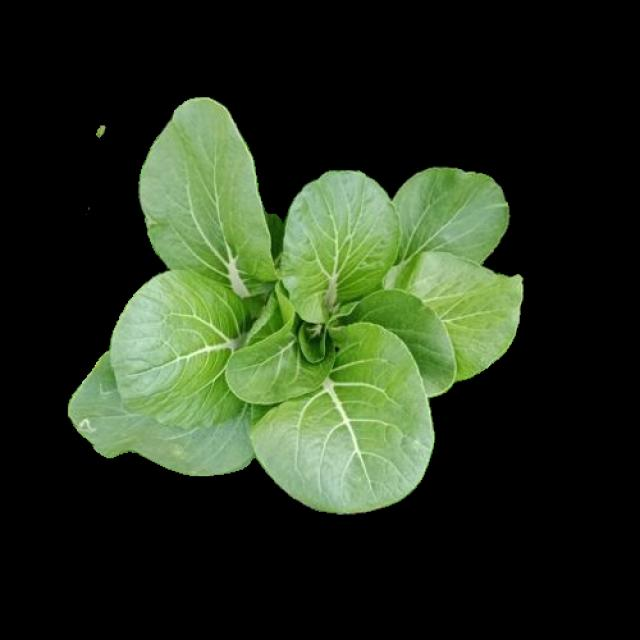mature: (67, 97, 521, 506)
unhealthy: (68, 358, 253, 474)
